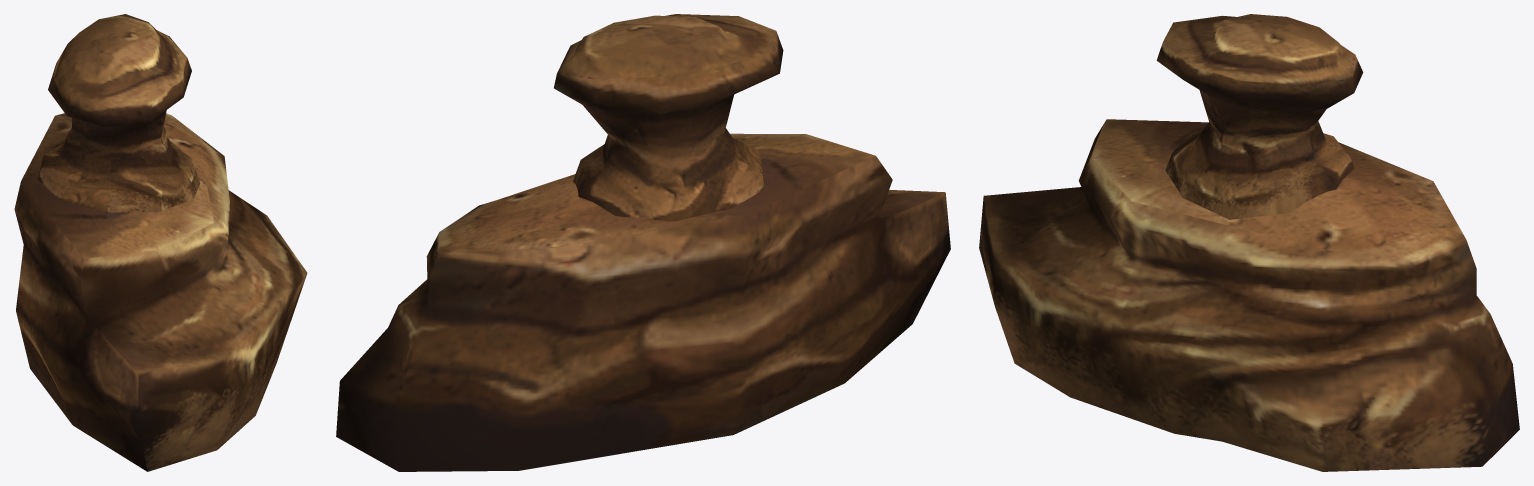
The model's file is ShiTou04.FBX.
3 renders of one model, left to right at view 1: azimuth 30°, elevation 25°; view 2: azimuth 150°, elevation 25°; view 3: azimuth 270°, elevation 25°, orthographic. The views are drawn at different scales.
Parts seen in each view (by area): view 1: ShiTou04; view 2: ShiTou04; view 3: ShiTou04.
Part boxes in pixels (x1,y1,x2,y2): ShiTou04: (14, 14, 307, 471); ShiTou04: (336, 14, 950, 471); ShiTou04: (979, 14, 1519, 471).
Size of the model in its own units: 227 by 222 by 315.
